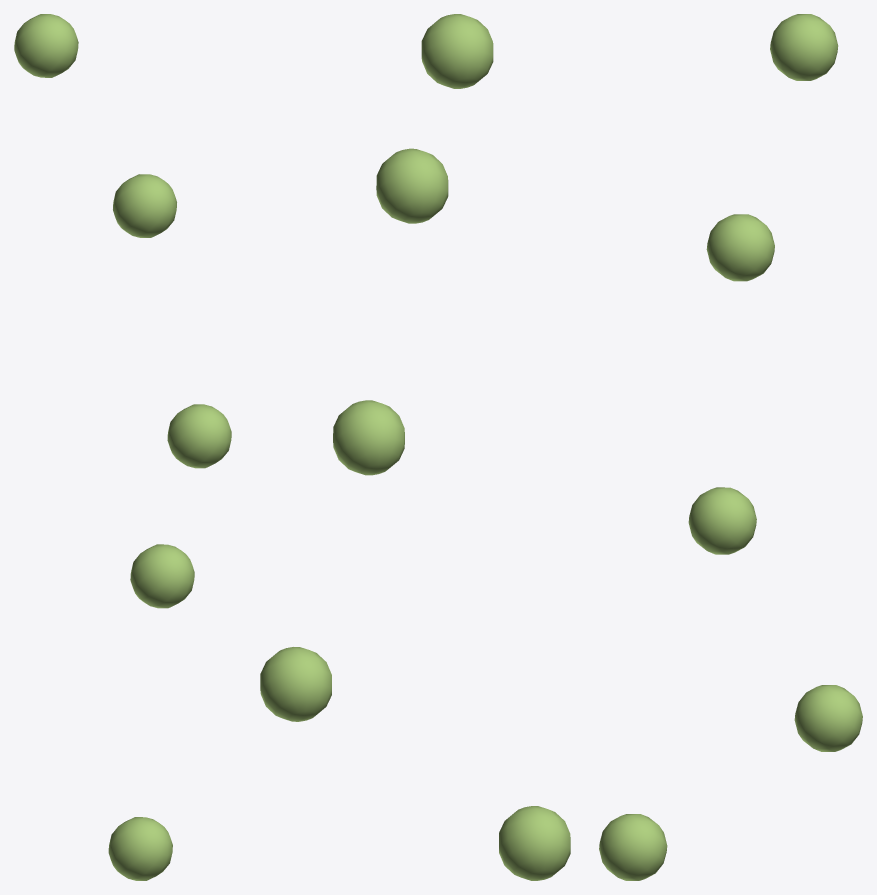
File: lateral-superior-jugular-node-l.glb
3 renders of one model, left to right at view 1: azimuth 30°, elevation 25°; view 2: azimuth 150°, elevation 25°; view 3: azimuth 270°, elevation 25°, orthographic. The views are drawn at different scales.
Visible parts, largest first — view 1: Lateral superior jugular node.l; view 2: Lateral superior jugular node.l; view 3: Lateral superior jugular node.l.
Boxes of the visible parts, x1=… form: Lateral superior jugular node.l: x1=14, y1=14, x2=231, y2=880; Lateral superior jugular node.l: x1=260, y1=14, x2=570, y2=880; Lateral superior jugular node.l: x1=599, y1=14, x2=862, y2=880.
Bounding box in the file's own units: 0.00845 × 0.0355 × 0.00993.
